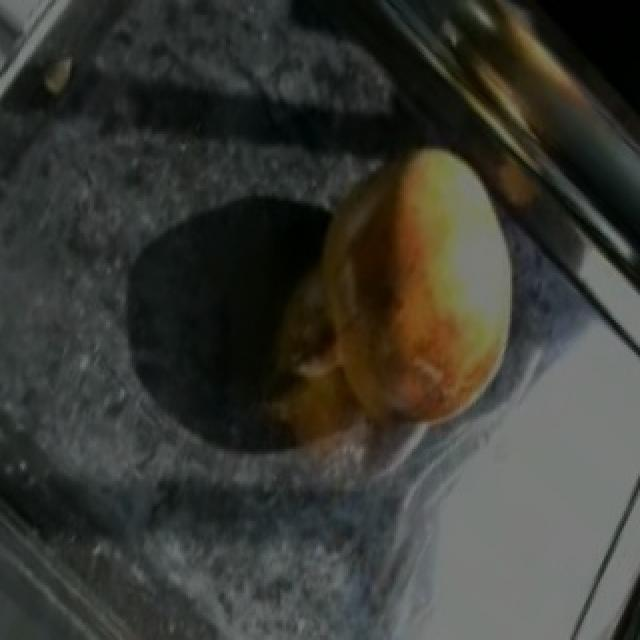fruit: (290, 149, 554, 459)
